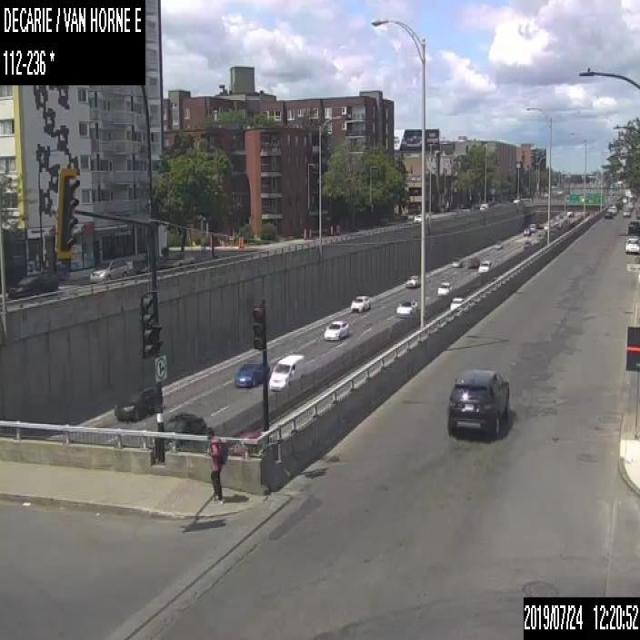pedestrian: (205, 425, 227, 504)
vehicle: (446, 368, 510, 437), (110, 380, 162, 421), (6, 268, 58, 299), (266, 352, 304, 391), (88, 255, 135, 282), (163, 409, 206, 435), (232, 359, 261, 388), (322, 318, 349, 342), (162, 251, 194, 267), (394, 296, 417, 317), (349, 292, 370, 312), (624, 234, 639, 253), (406, 272, 420, 288), (626, 219, 639, 236), (449, 296, 464, 309), (436, 282, 451, 294), (466, 255, 479, 268), (413, 211, 429, 221), (477, 260, 490, 272), (452, 255, 462, 266), (607, 203, 617, 213), (479, 202, 489, 211), (602, 210, 612, 218), (622, 206, 630, 216), (522, 224, 530, 234), (528, 222, 536, 231), (494, 240, 501, 249)
